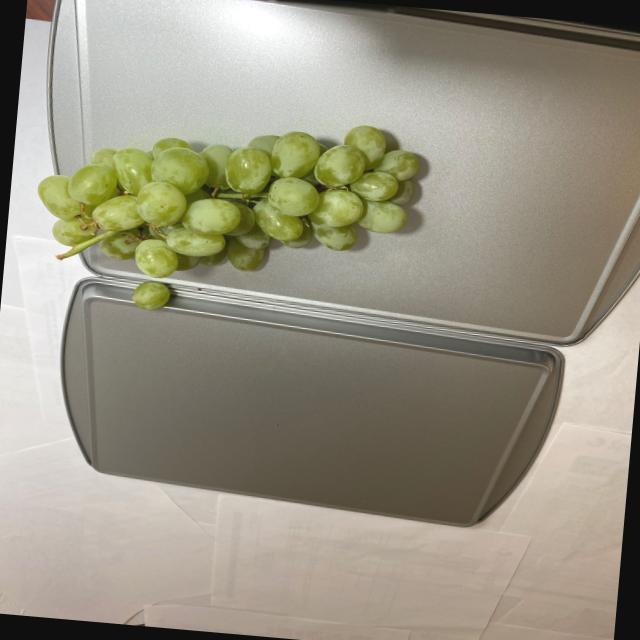grapes: (31, 101, 424, 295), (130, 276, 172, 312)
